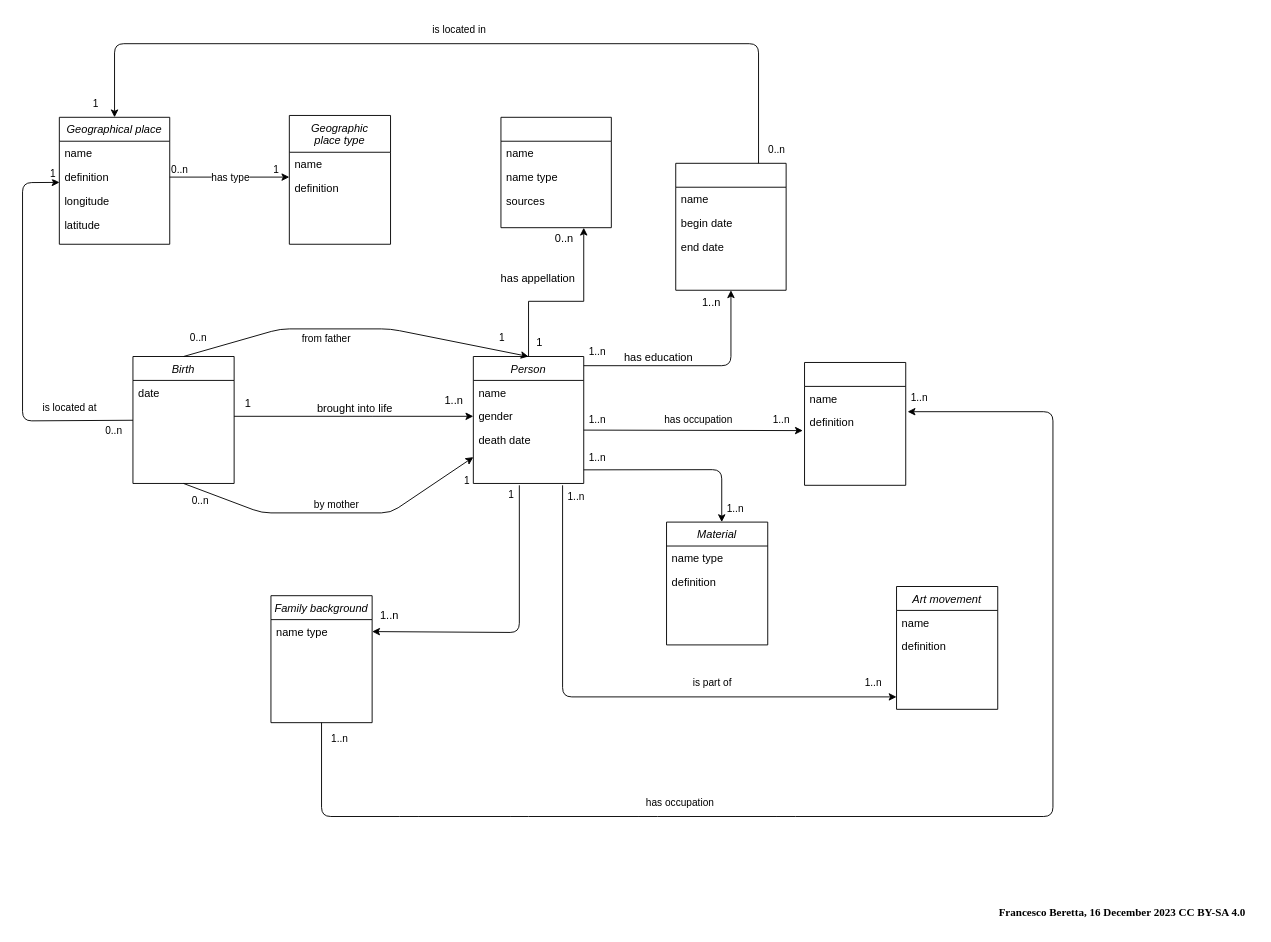
Some shapes in this 1271 by 942 pixel diagram are drawn without their labels. The shapes that lost their labels are listed below. From the top down, each one's box as (x1, y1, x2, y2) in pixels, then its label:
(500, 116, 611, 228): Appellation
(675, 162, 786, 290): Education
(804, 362, 906, 485): Occupation
